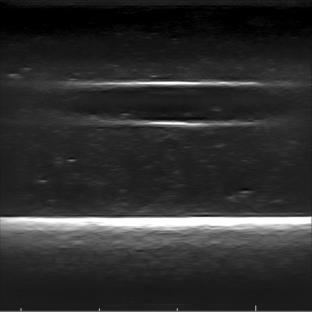vessel: (65, 80, 288, 129)
